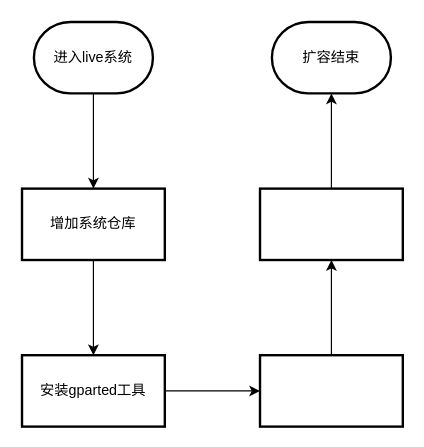
The diagram is 424 pixels wide and 447 high, and some of its shapes have lost their labels. Here are the shapes that lost their labels. From the top down, the centre of each, then its label:
the point at 330,224: 应用调整，重启系统
the point at 330,390: 使用gparted进行分区调整
